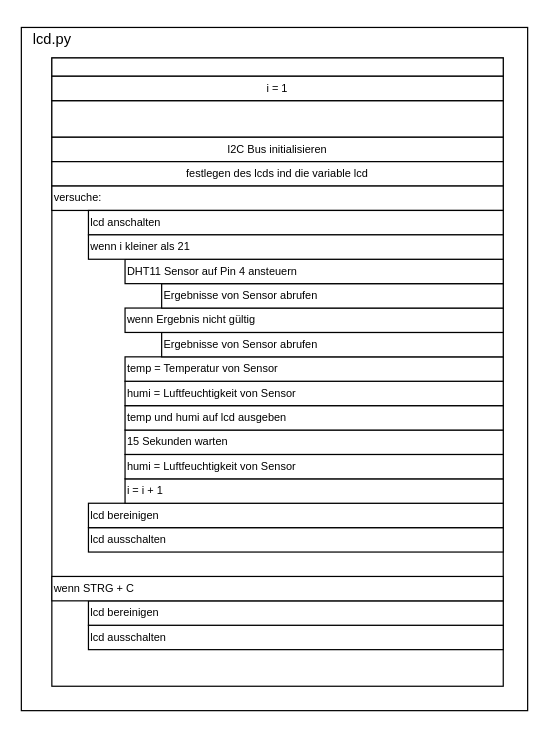
This 549x732 diagram has some shape labels left out. Each missing label, with the centre of its shape:
"GPIO initialisieren" goes at point 277,66.
"lcd zeilen und spalten definieren" goes at point 277,118.
